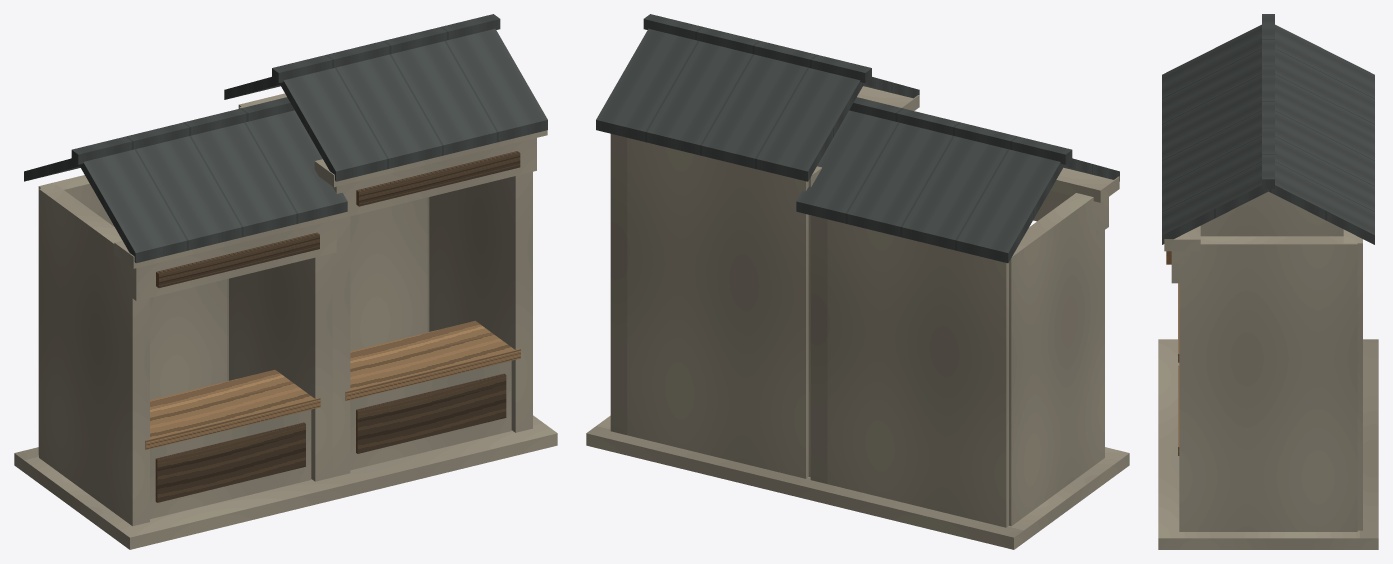
3 renders of one model, left to right at view 1: azimuth 30°, elevation 25°; view 2: azimuth 150°, elevation 25°; view 3: azimuth 270°, elevation 25°, orthographic. The views are drawn at different scales.
Parts seen in each view (by area): view 1: asaba; view 2: asaba; view 3: asaba.
Part boxes in pixels (bbox=[...]): asaba: bbox=[14, 14, 557, 549]; asaba: bbox=[586, 14, 1129, 549]; asaba: bbox=[1158, 14, 1378, 549].
Bounding box in the file's own units: 2.66 × 2.3 × 1.24.
1 material, 1 textured.
